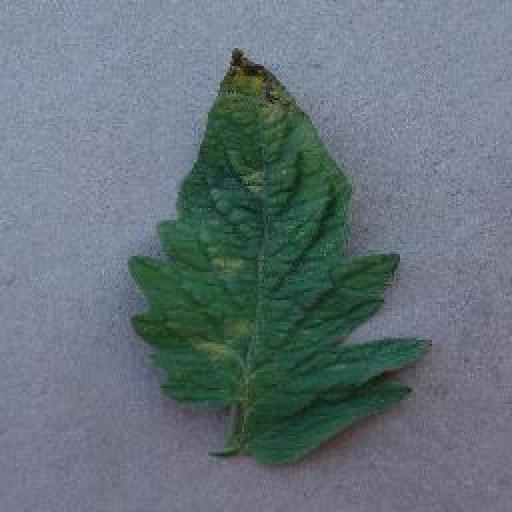disease_tomato: (126, 48, 432, 465)
